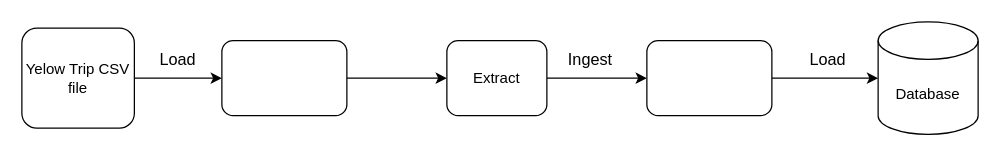
Some shapes in this 1000 by 156 pixel diagram are drawn without their labels. The shapes that lost their labels are listed below. From the top down, each one's centre as x and y in pixels, then its label:
the point at 284,77: Raw Storage
the point at 709,77: Transform & Analyze
